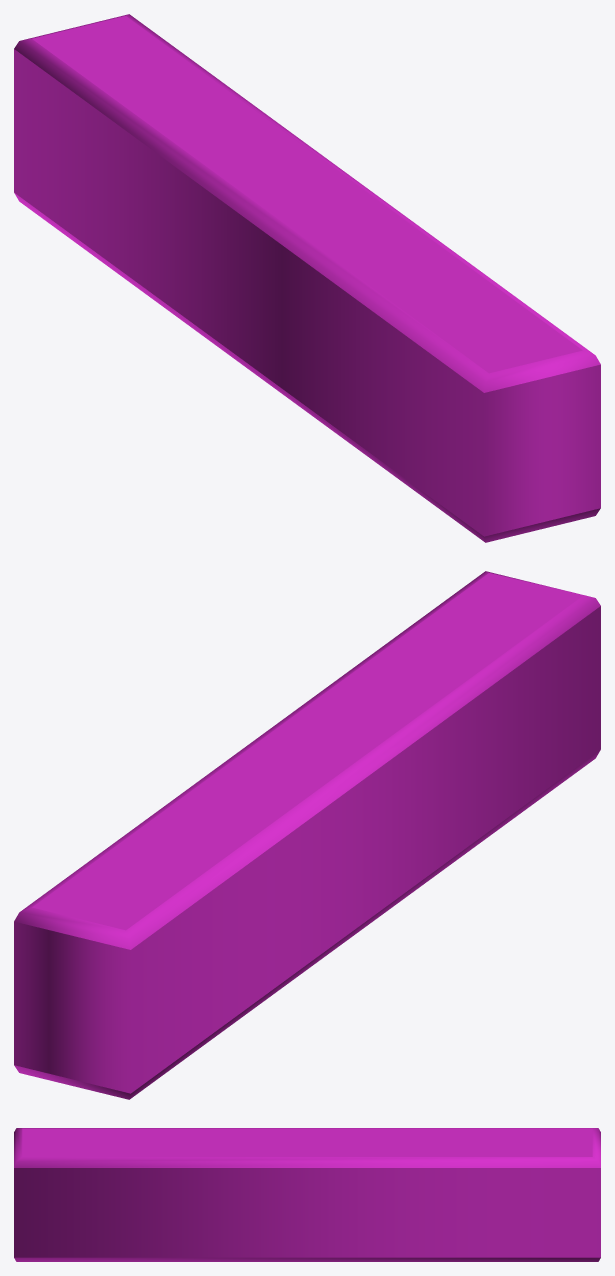
The model's file is Letter_I_Capital_CoolFont.fbx.
The picture shows the model from 3 angles, top to bottom: view 1: azimuth 30°, elevation 25°; view 2: azimuth 150°, elevation 25°; view 3: azimuth 270°, elevation 25°; orthographic projection. The views are drawn at different scales.
Visible parts, largest first — view 1: Letter_I; view 2: Letter_I; view 3: Letter_I.
Part boxes in pixels (x1=…): Letter_I: x1=14, y1=14, x2=600, y2=542; Letter_I: x1=14, y1=571, x2=600, y2=1099; Letter_I: x1=14, y1=1128, x2=600, y2=1261.
Bounding box in the file's own units: 0.1021 × 0.14 × 0.712.
